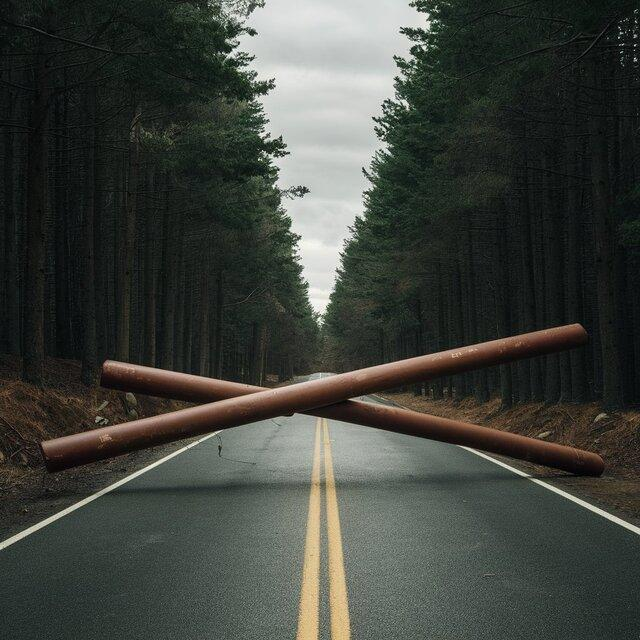Inclined Pole: (35, 321, 592, 476), (96, 354, 609, 475)
